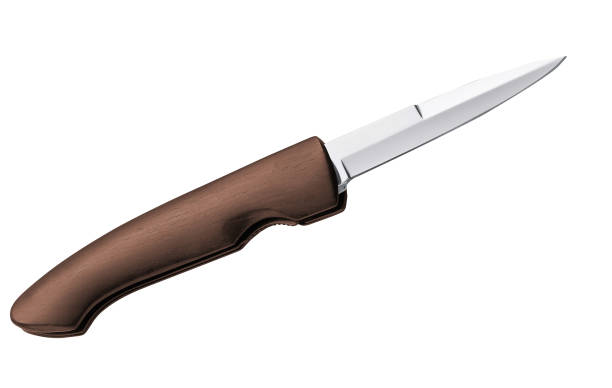knife: (7, 53, 568, 341)
